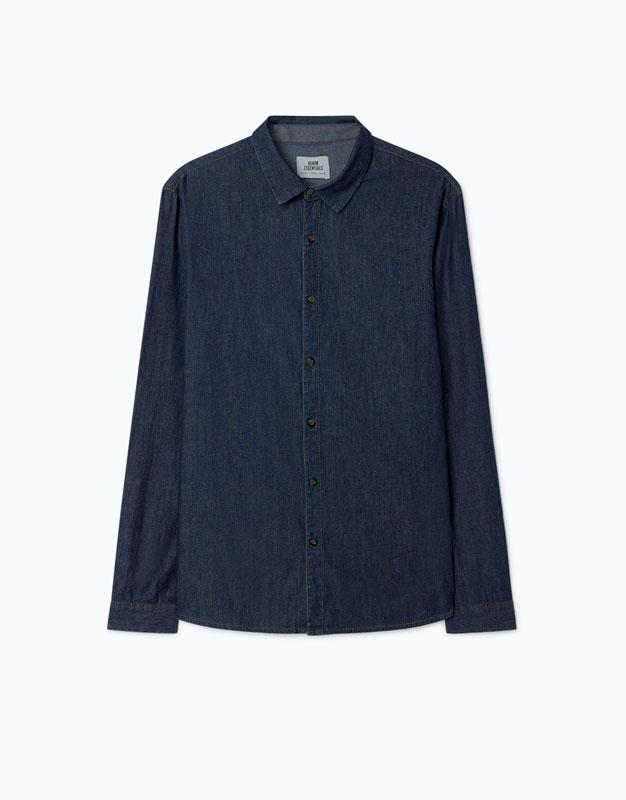teeshirt: (111, 114, 530, 659)
